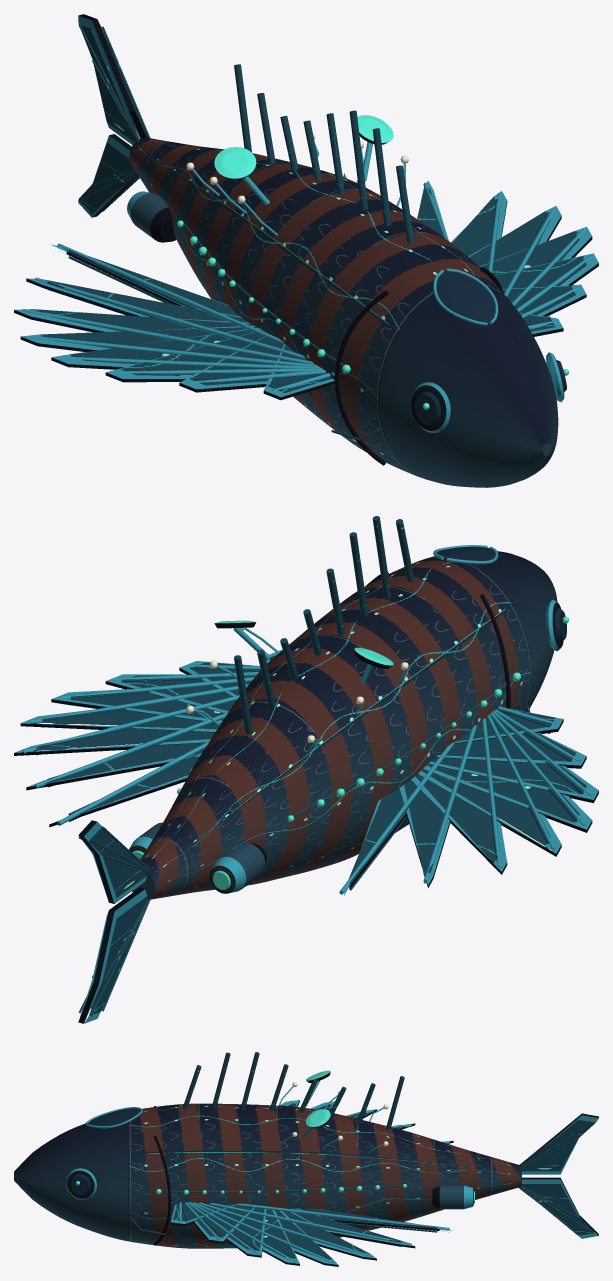
The picture shows the model from 3 angles, top to bottom: view 1: azimuth 30°, elevation 25°; view 2: azimuth 150°, elevation 25°; view 3: azimuth 270°, elevation 25°; orthographic projection. The views are drawn at different scales.
Visible parts, largest first — view 1: lionfish_hull; view 2: lionfish_hull; view 3: lionfish_hull.
Part boxes in pixels (left/top/right/bottom): lionfish_hull: left=14, top=14, right=598, bottom=487; lionfish_hull: left=14, top=516, right=598, bottom=1023; lionfish_hull: left=14, top=1052, right=598, bottom=1266.
Size of the model in its own units: 25.23 by 13.71 by 38.
Materials: 1 (1 with a texture image).
